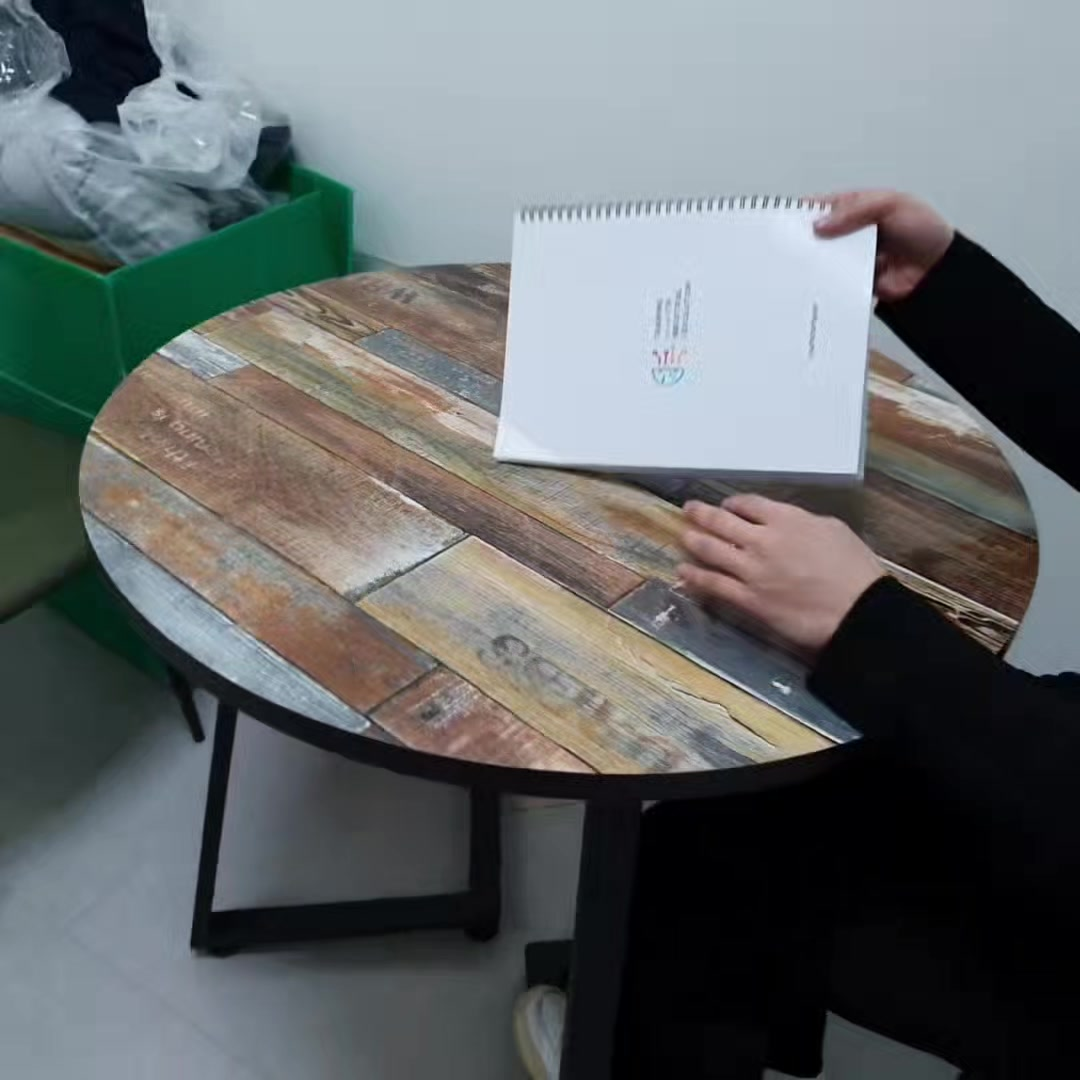book: (495, 198, 873, 492)
